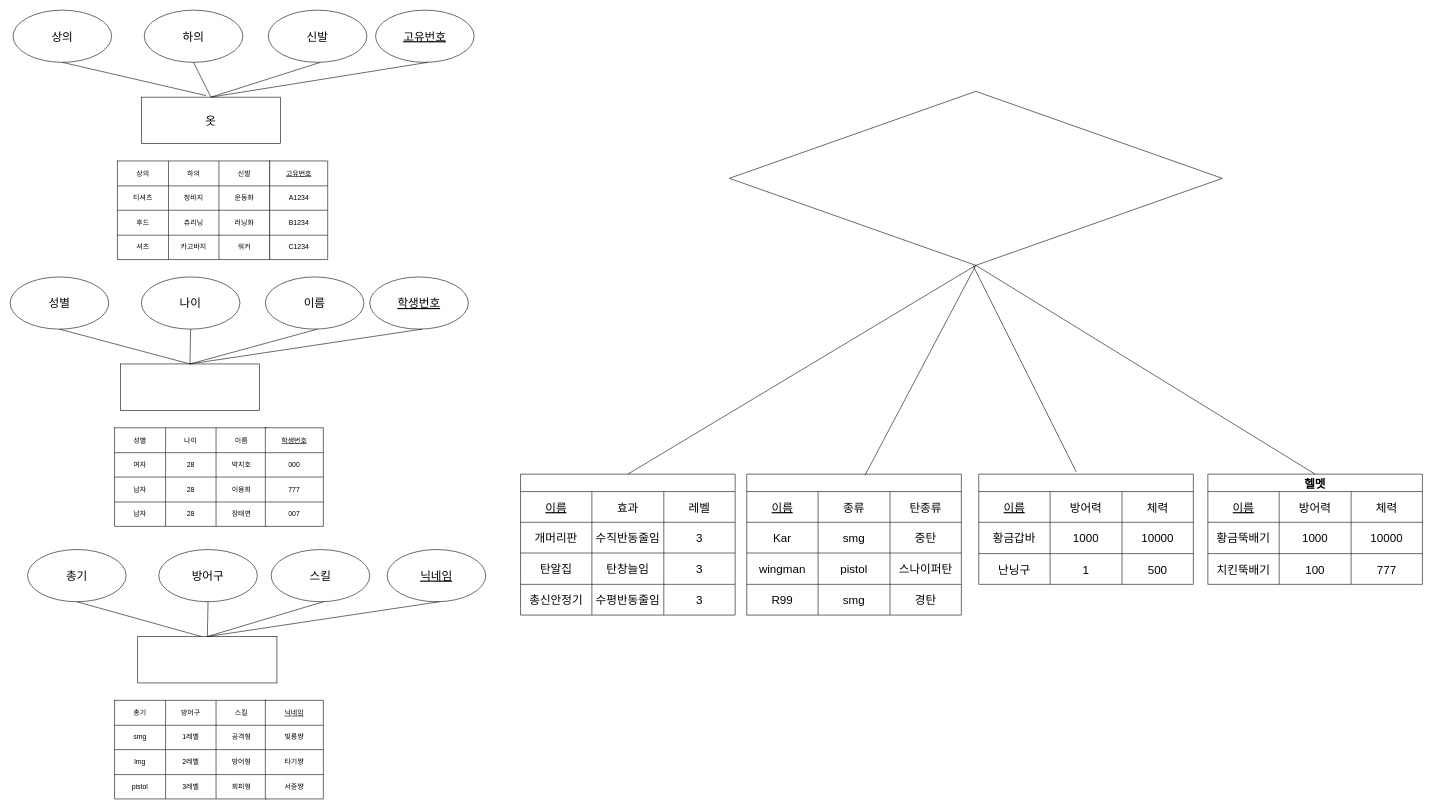
This 1433x809 diagram has some shape labels left out. The box of each missing label's shape, as (x1, y1, x2, y2) in pixels:
갑바: (978, 474, 1193, 584)
게임: (137, 636, 277, 683)
무기 & 장비: (729, 91, 1222, 265)
총기이름: (746, 474, 961, 615)
총기파츠: (520, 474, 735, 615)
학생: (120, 363, 260, 410)
